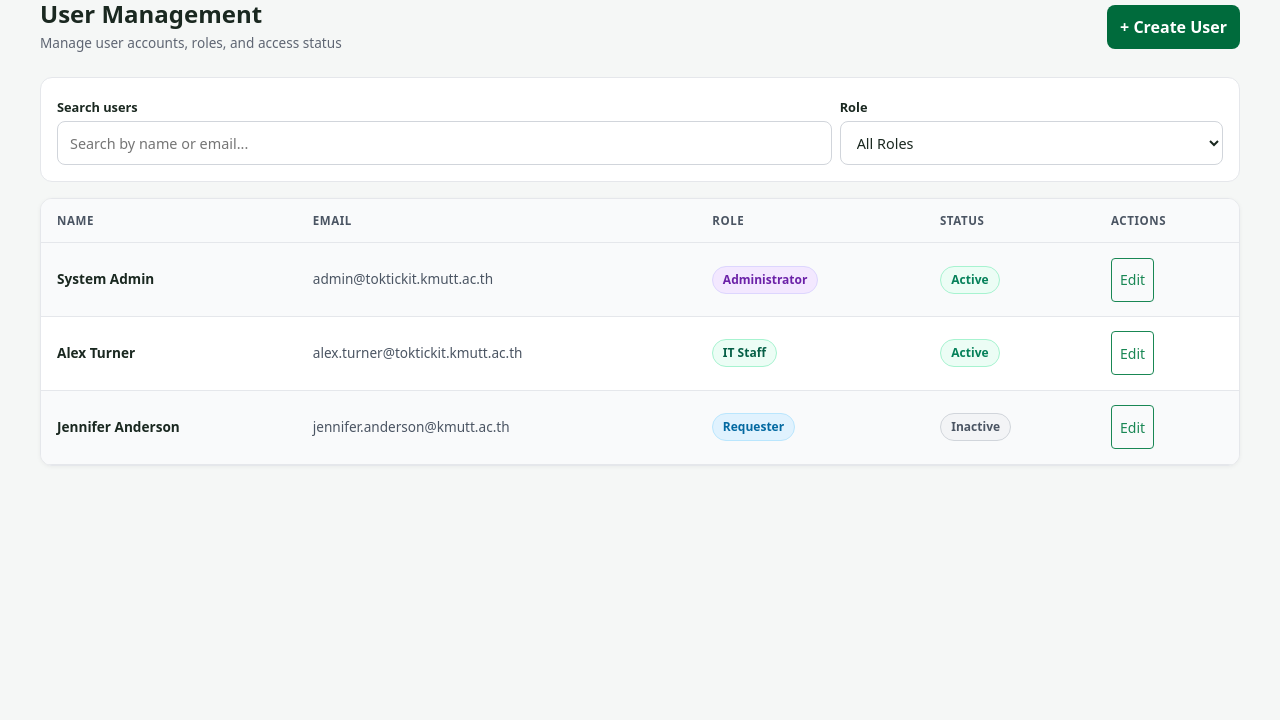
Scenario: UI-07: Administrator user management (FR-14, FR-15, AC-7.1, AC-7.4) › creates a user with trimmed fields and renders the success result
Check: the text "System Admin" is shown, box [57,269,154,288]
Click the button "+ Create User": [1174, 27] box [1107,5,1240,49]
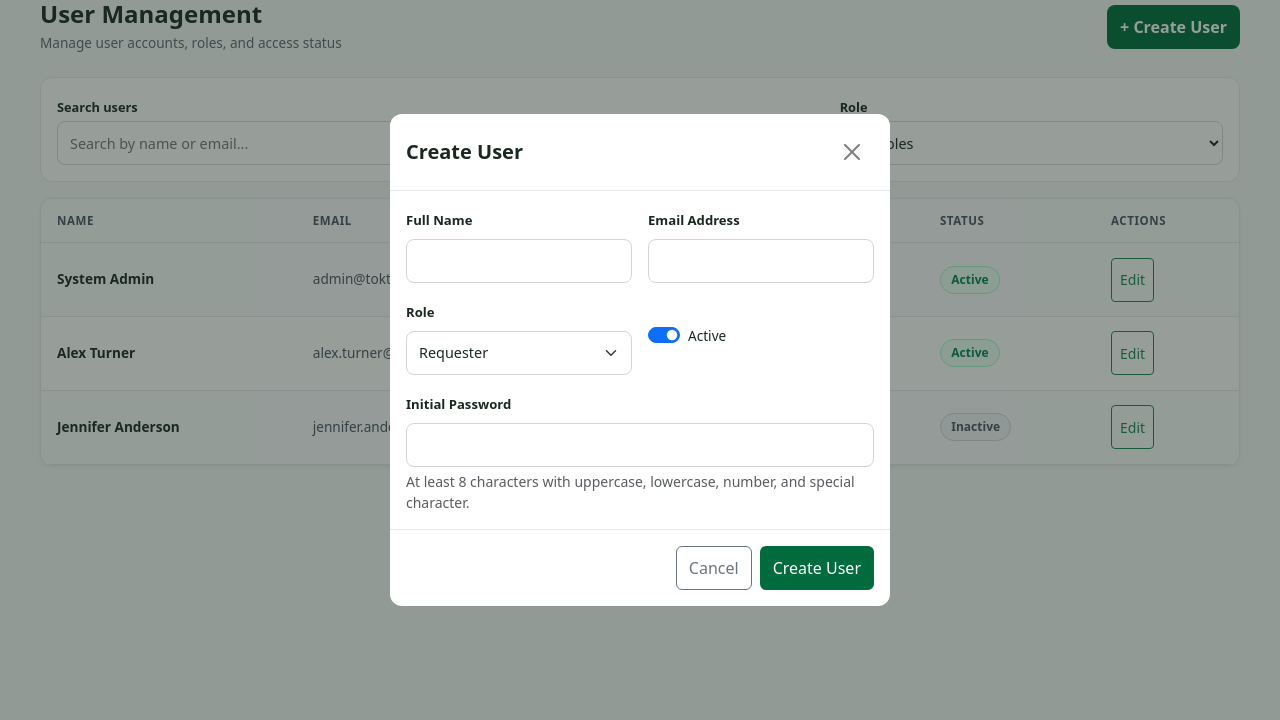
In the field with id "create-user-name": [519, 261] box [406,239,632,283], type "  Dana Wong  "
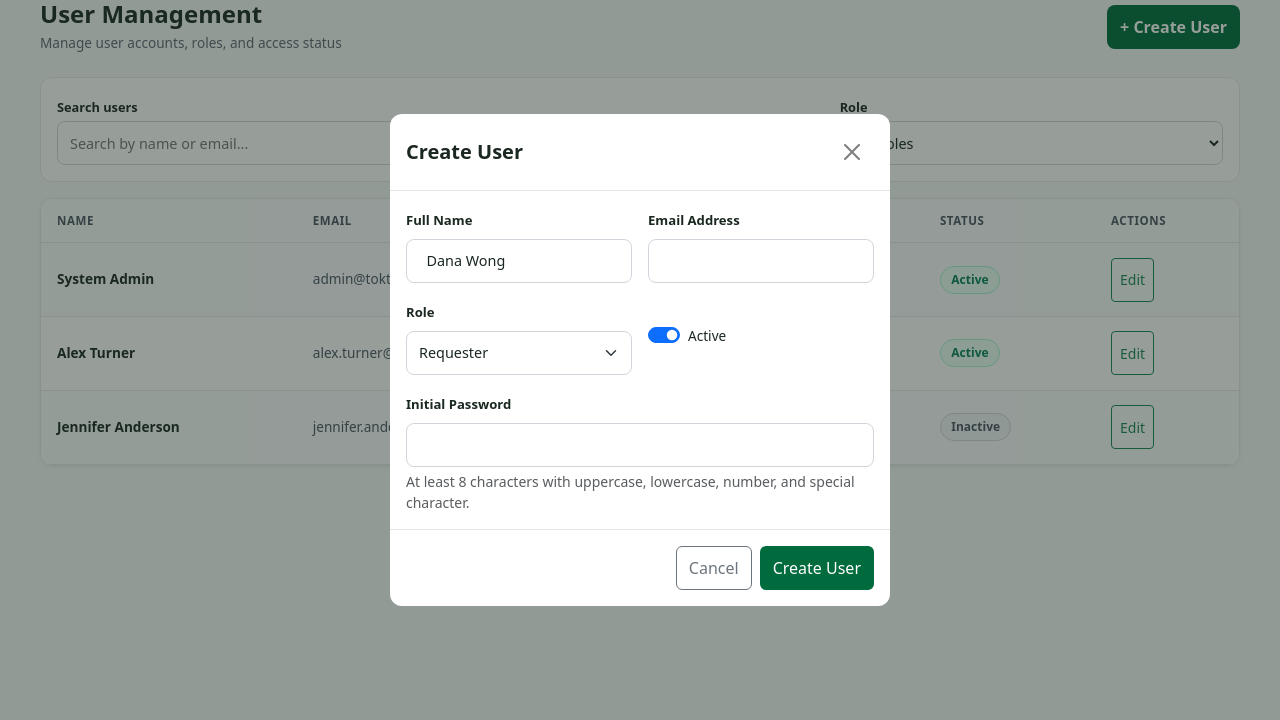
In the field with id "create-user-email": [761, 261] box [648,239,874,283], type "  dana.wong@kmutt.ac.th  "
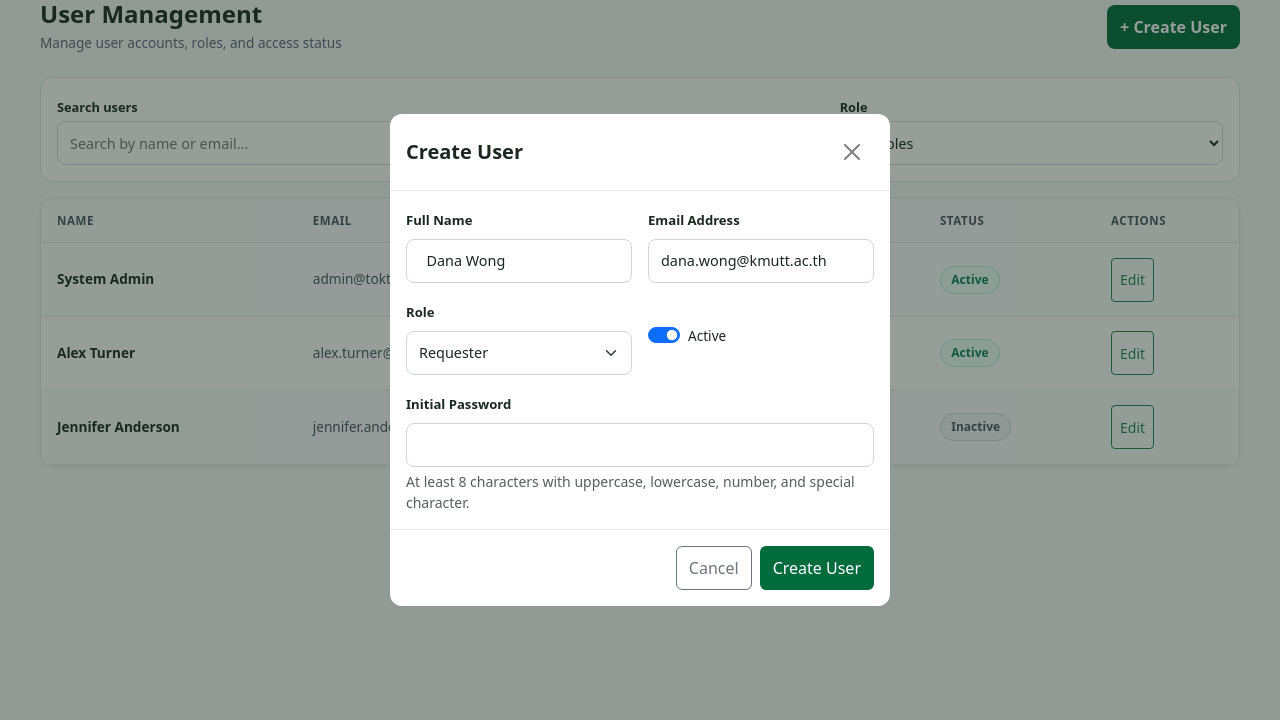
Select "IT Staff" in the dropdown with id "create-user-role": [519, 353] box [406,331,632,375]
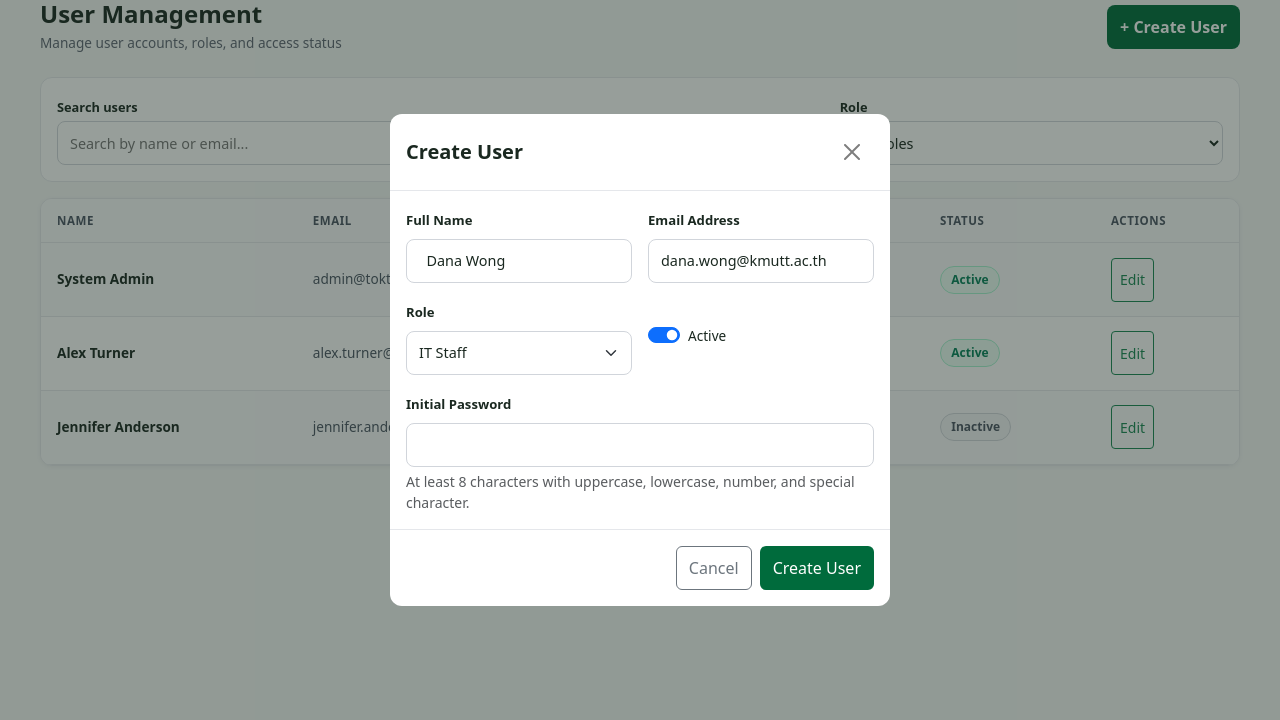
In the password field with id "create-user-password": [640, 444] box [406,422,874,466], type "Start123!"
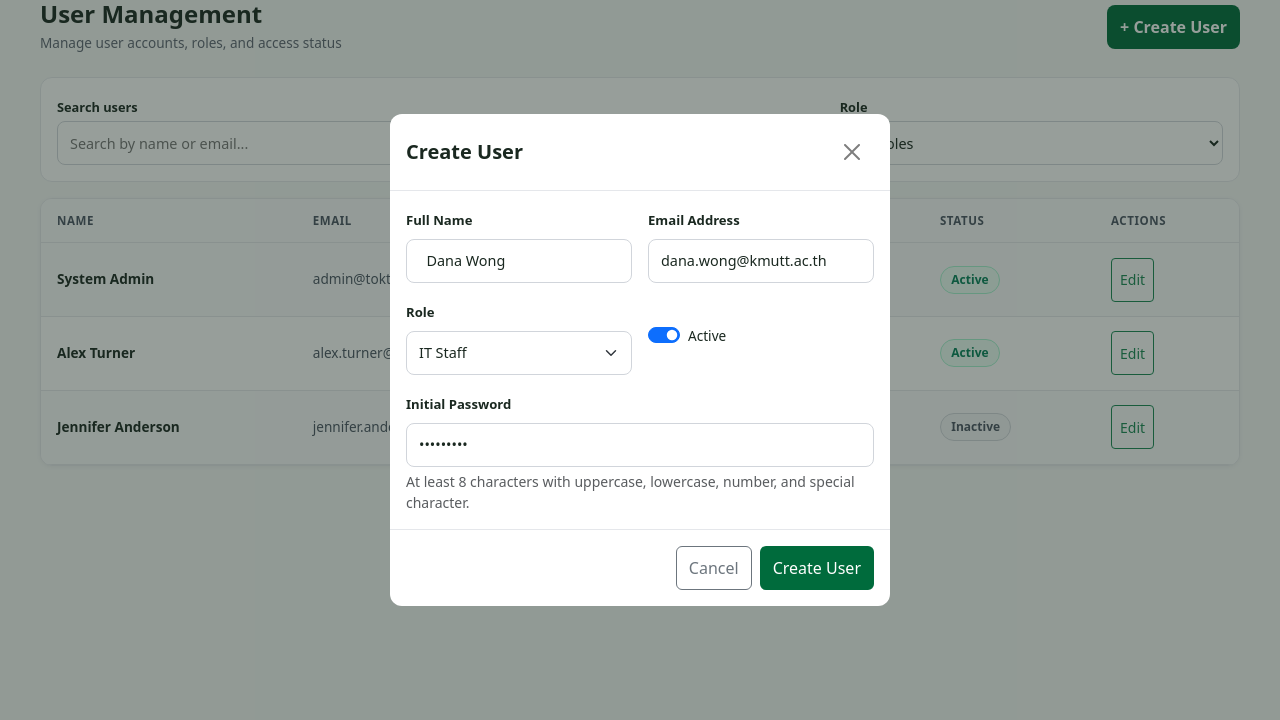
Click the button "Create User": [817, 568] box [760,546,874,590]
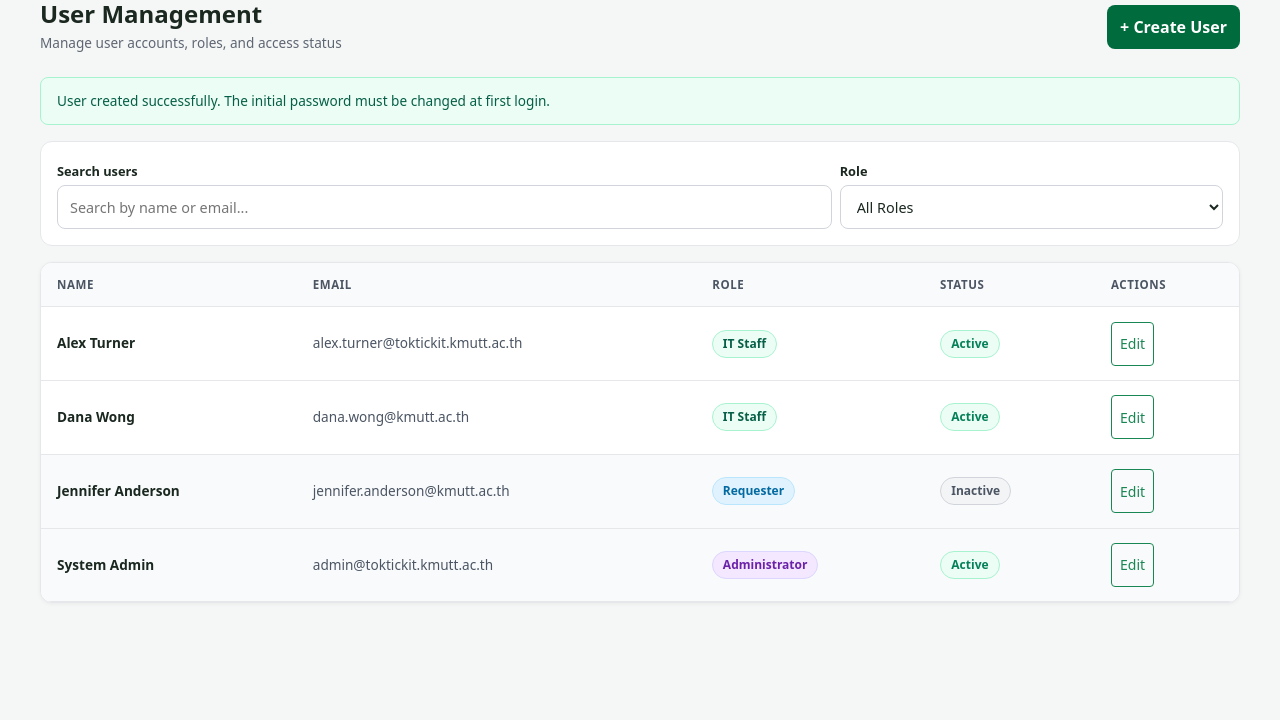
Check: the dialog with test id "user-form-modal" is gone
Check: the text "User created successfully. The initial password must be changed at first login." is shown, box [40,77,1240,125]
Check: the text "Dana Wong" is shown, box [57,407,135,426]
